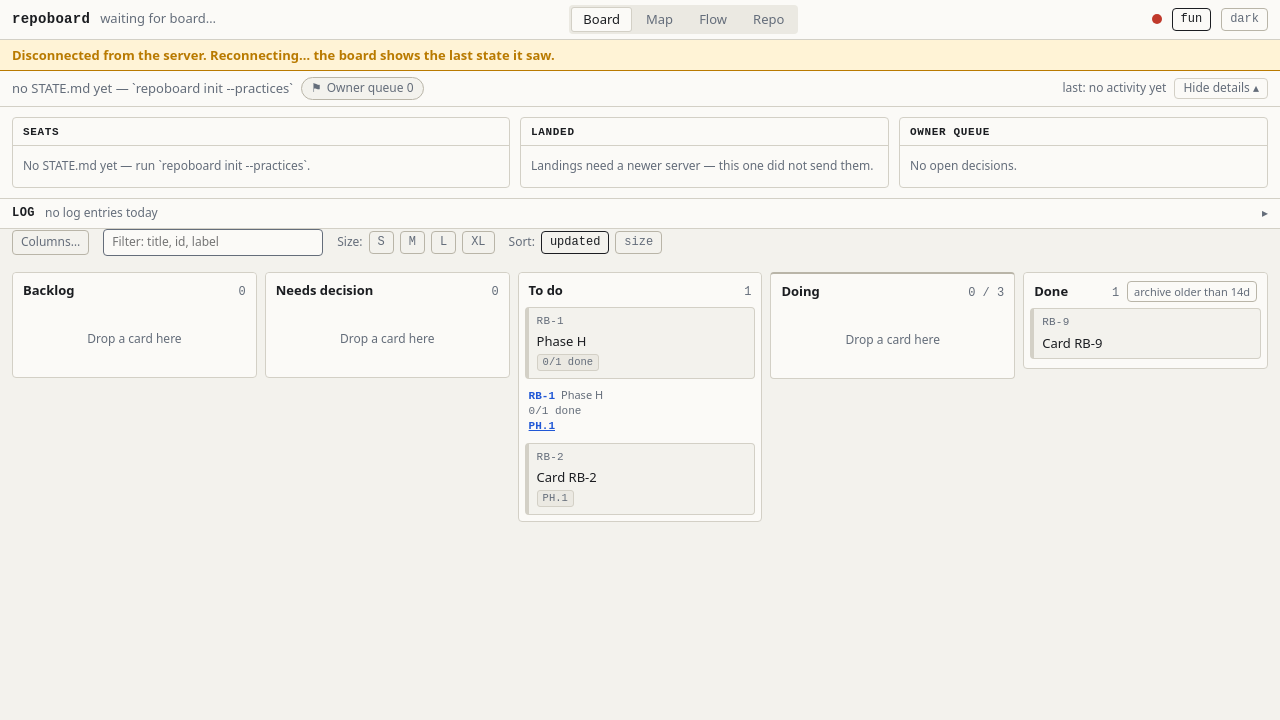
Scenario: Drawer: Phase block (RCB-68) › on a step: parent (opens it), phase chip, and the gate state line
Click the button titled "Open RB-2" at [550, 457], box [537,450,564,465]
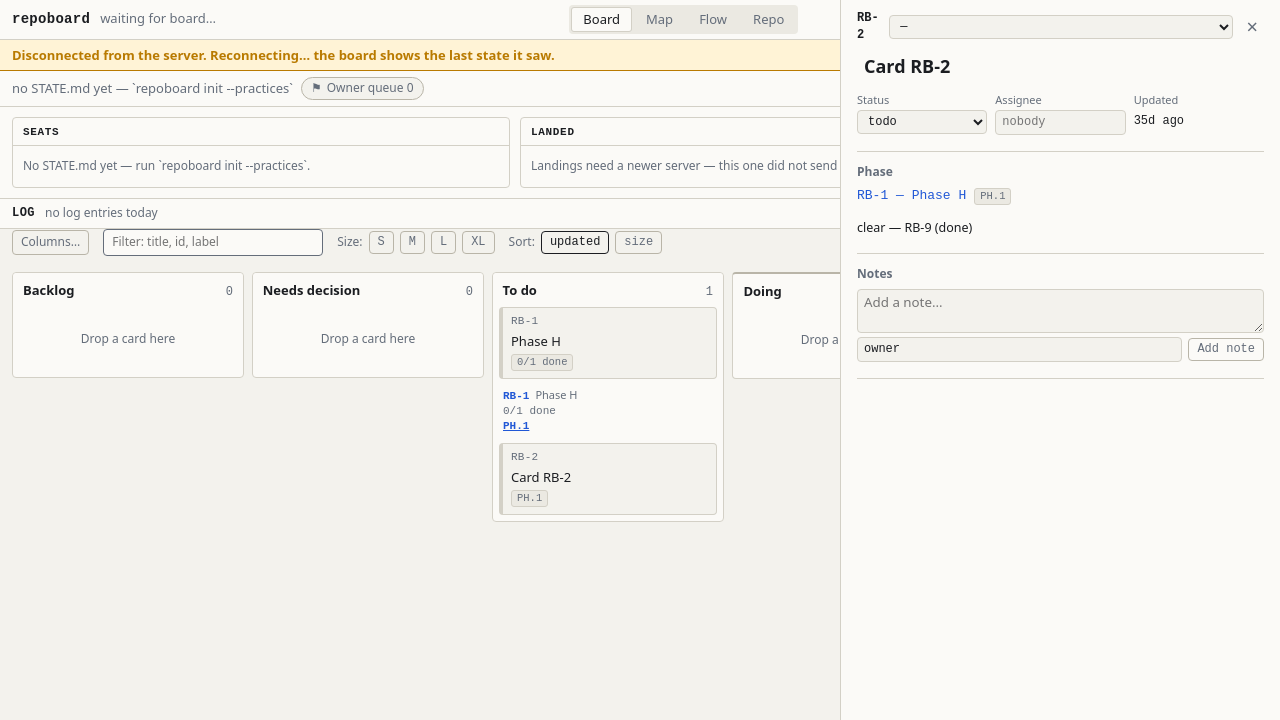
Check: the text with test id "phase-gate-state" reads "clear — RB-9 (done)", box [857,219,972,236]
Click the button with test id "phase-parent-open" at [912, 196], box [857,187,966,205]
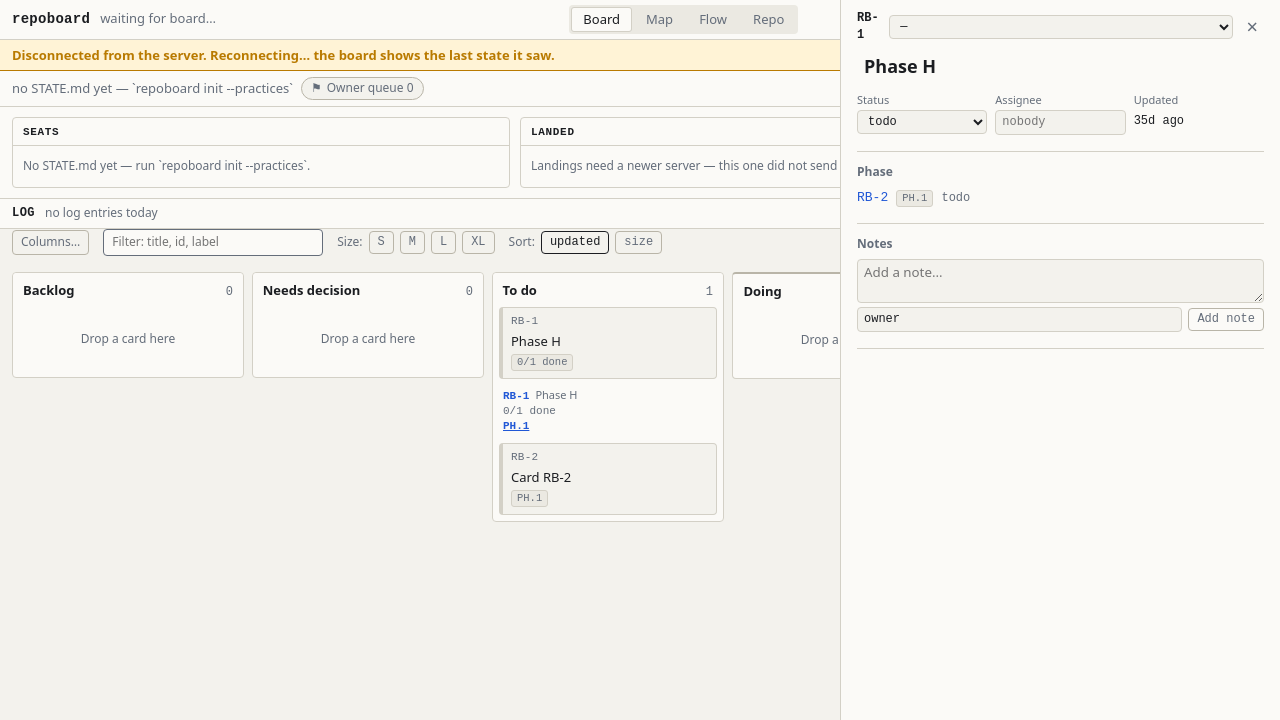
Check: the text "RB-1" is shown, box [857,10,881,44]
